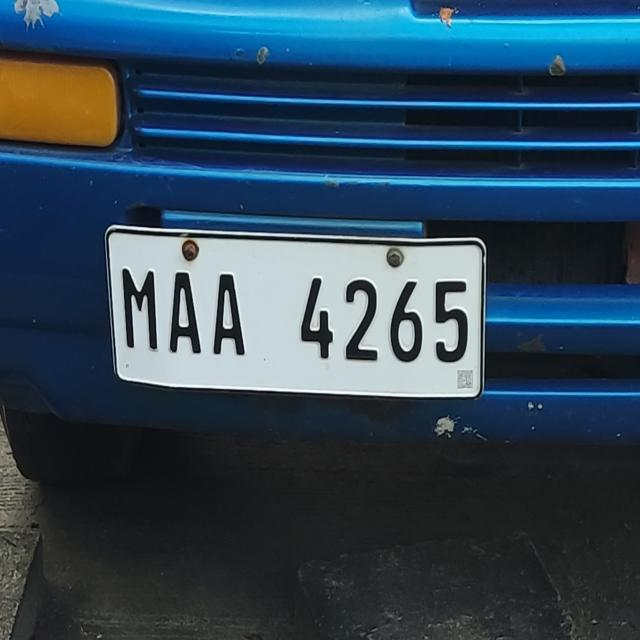LicensePlate: (96, 221, 498, 408)
